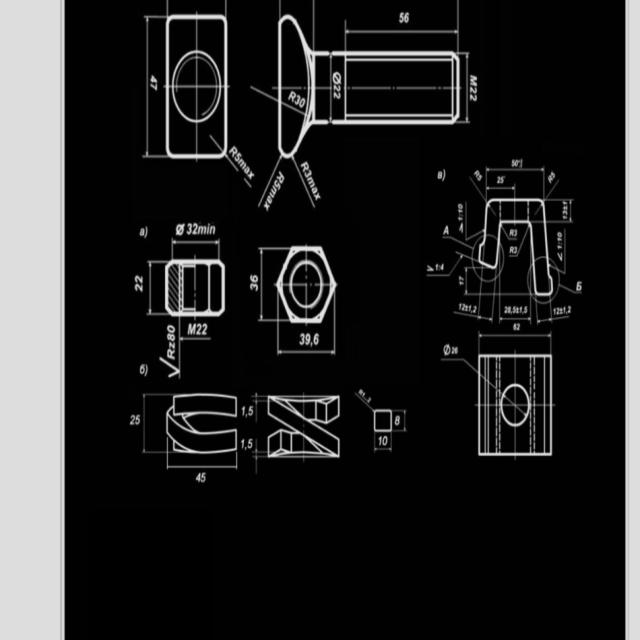marking_line: (142, 16, 166, 160), (344, 20, 461, 49), (498, 266, 533, 325), (484, 165, 544, 198), (277, 326, 338, 355), (292, 157, 324, 209), (141, 390, 166, 456), (257, 159, 286, 212), (167, 453, 241, 471), (259, 248, 276, 323), (146, 259, 166, 317), (172, 237, 221, 259), (229, 146, 252, 192), (426, 254, 465, 279), (460, 51, 471, 127), (546, 197, 574, 225), (462, 204, 483, 240), (536, 305, 572, 324), (464, 266, 483, 297), (251, 437, 266, 473), (251, 392, 267, 421), (477, 297, 494, 324), (373, 432, 394, 451), (486, 185, 516, 198), (393, 408, 408, 433)
numeric: (166, 349, 177, 360), (133, 285, 145, 294), (288, 91, 296, 104), (470, 74, 478, 86), (313, 331, 319, 347), (198, 224, 206, 236), (295, 93, 302, 106), (167, 324, 176, 334), (249, 283, 258, 293), (250, 274, 259, 283), (150, 73, 158, 83), (202, 324, 208, 337), (186, 222, 192, 235), (305, 332, 311, 345), (299, 97, 306, 108), (575, 279, 582, 290), (197, 322, 202, 337), (299, 331, 304, 346), (151, 83, 159, 92), (167, 333, 176, 341), (195, 472, 201, 484), (135, 275, 143, 284), (139, 364, 145, 376), (443, 226, 450, 236), (192, 222, 197, 236), (200, 472, 206, 483), (247, 439, 253, 450), (241, 404, 246, 417), (333, 92, 341, 100), (333, 84, 341, 92), (394, 416, 400, 426), (470, 94, 477, 102), (136, 412, 140, 426), (399, 12, 404, 23), (210, 226, 216, 235), (518, 159, 523, 169), (130, 415, 135, 425), (248, 406, 253, 416), (169, 342, 176, 349), (469, 87, 477, 93), (207, 223, 211, 235), (473, 305, 478, 314), (438, 172, 443, 181), (240, 439, 244, 450), (557, 231, 563, 238), (524, 305, 528, 315), (548, 174, 552, 184), (551, 172, 556, 180), (509, 246, 514, 254), (405, 13, 409, 23), (140, 228, 145, 236), (451, 345, 455, 354), (465, 303, 469, 312), (517, 322, 521, 331), (507, 305, 511, 314), (562, 210, 568, 216), (473, 170, 479, 176), (478, 174, 483, 181), (468, 304, 472, 312), (510, 229, 514, 237), (514, 229, 518, 237), (500, 176, 504, 184), (511, 159, 515, 167), (513, 304, 516, 314), (520, 305, 523, 315), (557, 246, 564, 250), (367, 396, 371, 403), (497, 175, 500, 184), (514, 246, 517, 255), (455, 347, 458, 355), (513, 323, 516, 331), (504, 305, 507, 313), (556, 238, 564, 241), (562, 216, 568, 220), (359, 390, 363, 396), (459, 303, 462, 310), (515, 160, 518, 167), (563, 200, 568, 204), (362, 393, 366, 398), (462, 303, 464, 311)
special_symbol: (159, 357, 179, 379), (333, 71, 343, 85), (176, 223, 186, 235), (442, 343, 450, 357), (144, 363, 148, 377), (442, 169, 446, 182), (144, 225, 148, 238)
